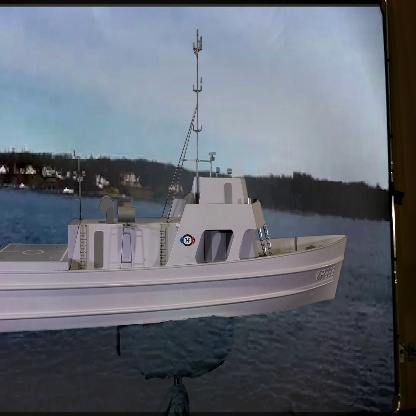YP689: (0, 26, 348, 336)
